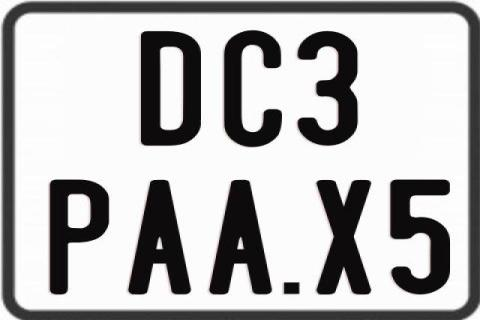0: (299, 31, 364, 149), (389, 177, 450, 297)
A: (126, 180, 192, 298), (206, 179, 274, 293)
C: (222, 29, 286, 149)
D: (139, 30, 201, 146)
P: (49, 179, 111, 295)
X: (315, 178, 372, 294)
